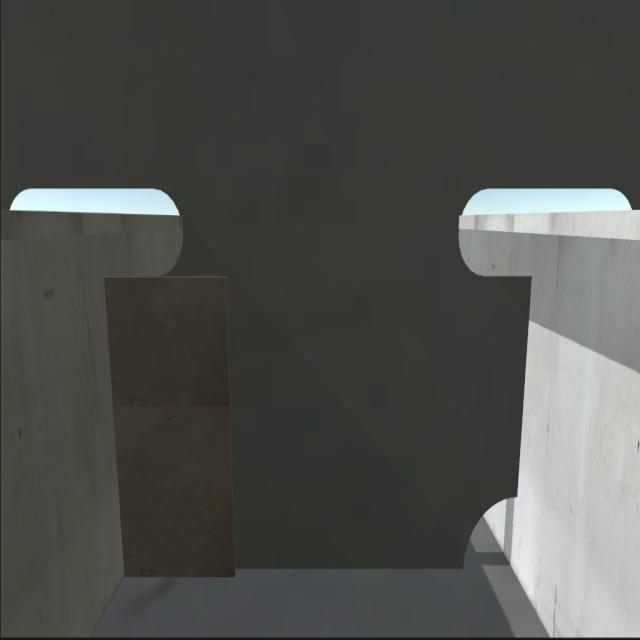fillet_hole: (462, 486, 522, 570)
fillet_yong_jeop_jang: (119, 560, 473, 581)
longi_yong_jeop_jang: (98, 269, 130, 586), (516, 270, 528, 500)
plate_CP01: (103, 275, 233, 574)
